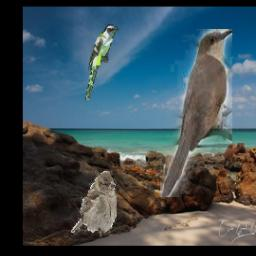Cuckoo: (160, 29, 232, 197), (86, 25, 119, 101)
Sparrow: (71, 172, 117, 242)
